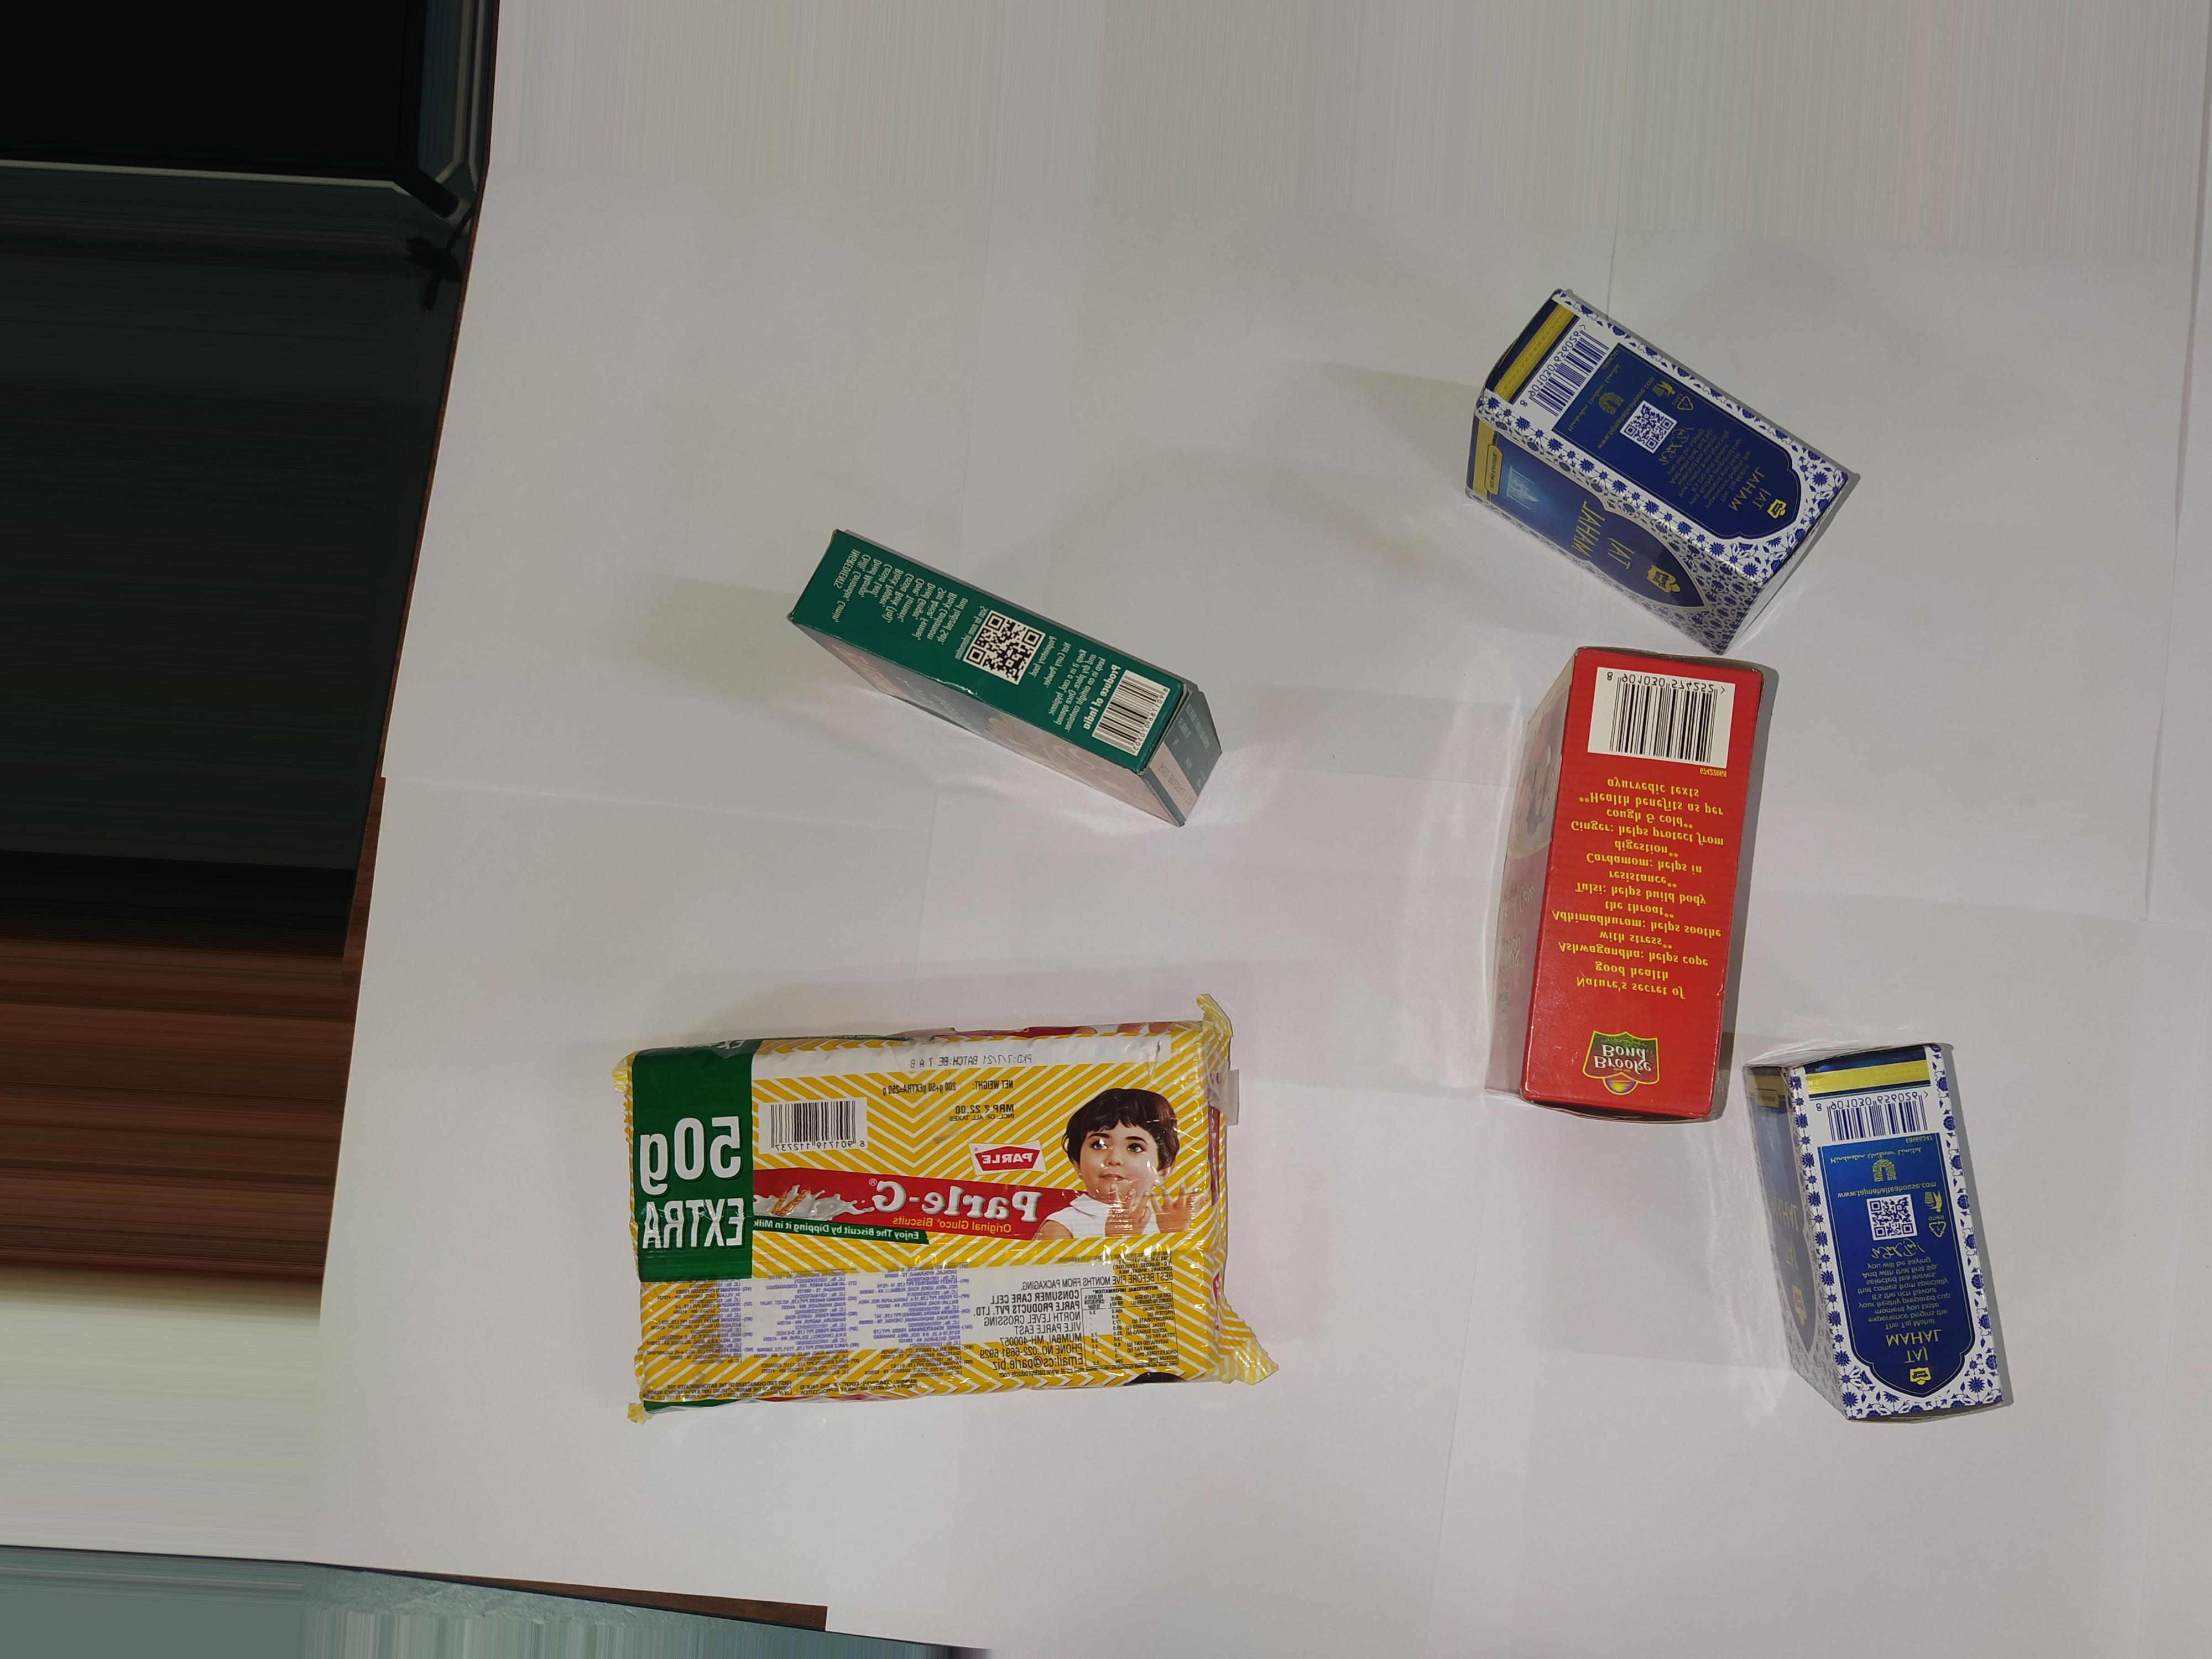Bar_code: (1594, 657, 1757, 770), (1494, 310, 1611, 429), (1096, 652, 1167, 772), (761, 1105, 874, 1159), (1829, 1098, 1940, 1145)
Item: (604, 1007, 1275, 1436), (1366, 277, 1946, 647), (726, 518, 1303, 850), (1449, 643, 1770, 1127), (1749, 1040, 2040, 1432)
QR_code: (960, 599, 1047, 685), (1611, 397, 1684, 451), (1860, 1190, 1926, 1243)
